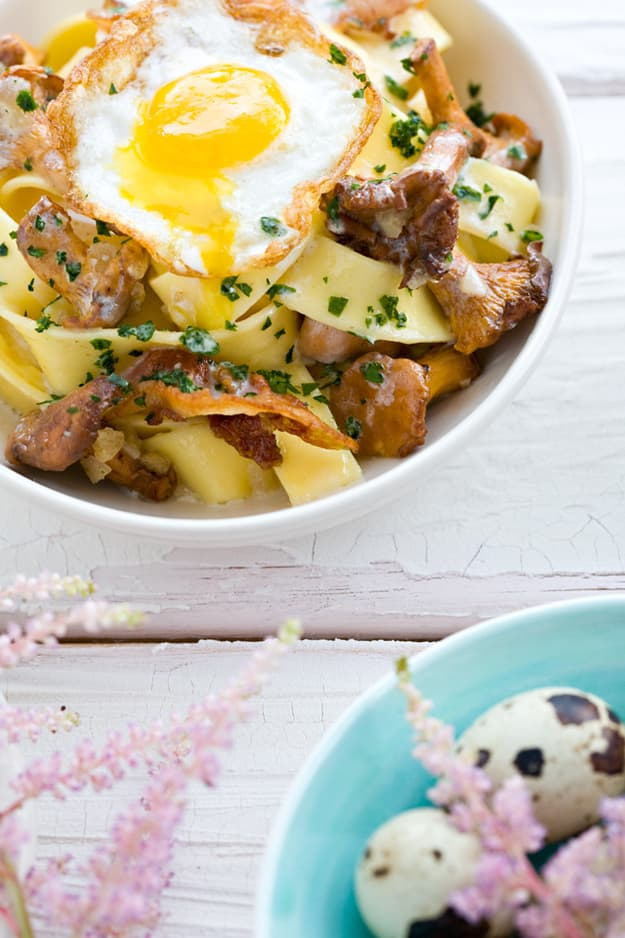fried egg: (104, 29, 321, 246)
